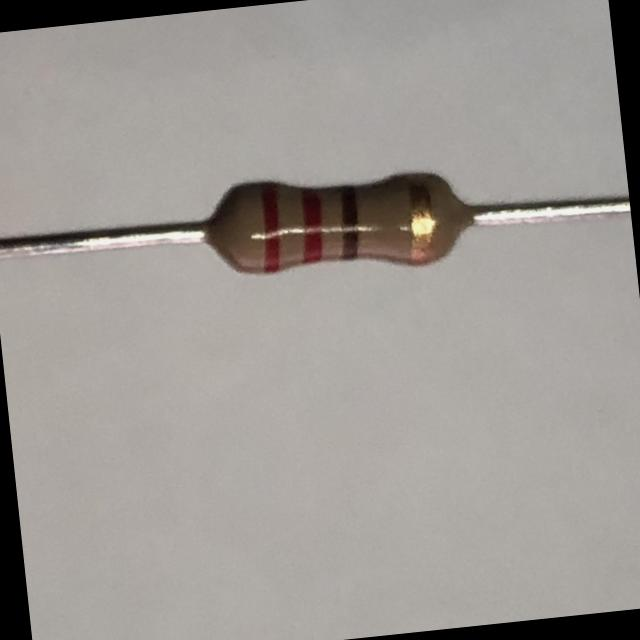Resistor: (206, 173, 473, 273)
brown: (333, 182, 366, 261)
gold: (401, 172, 440, 266)
red: (254, 179, 288, 274), (294, 180, 328, 265)
